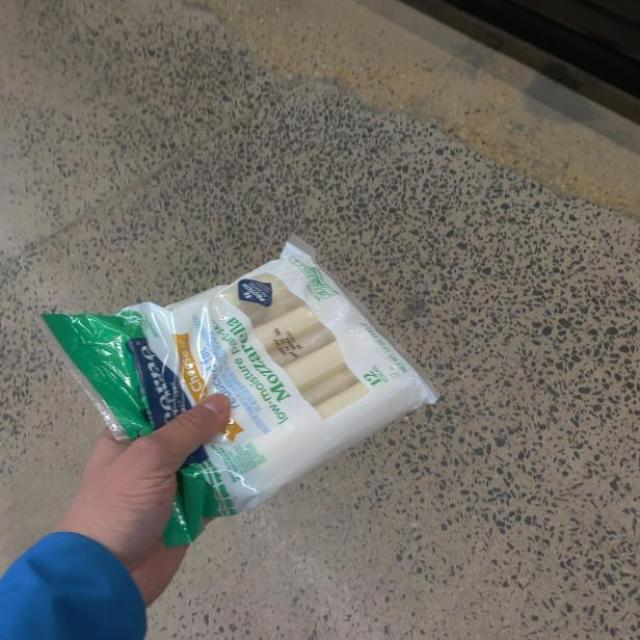Cheese: (53, 228, 438, 532)
